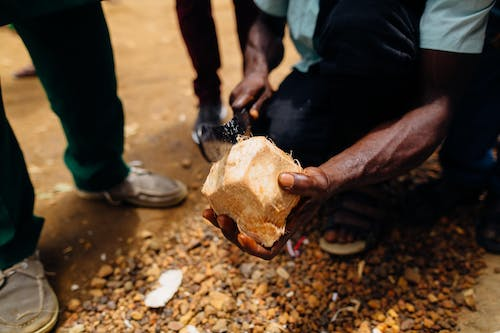knife: (194, 103, 258, 166)
